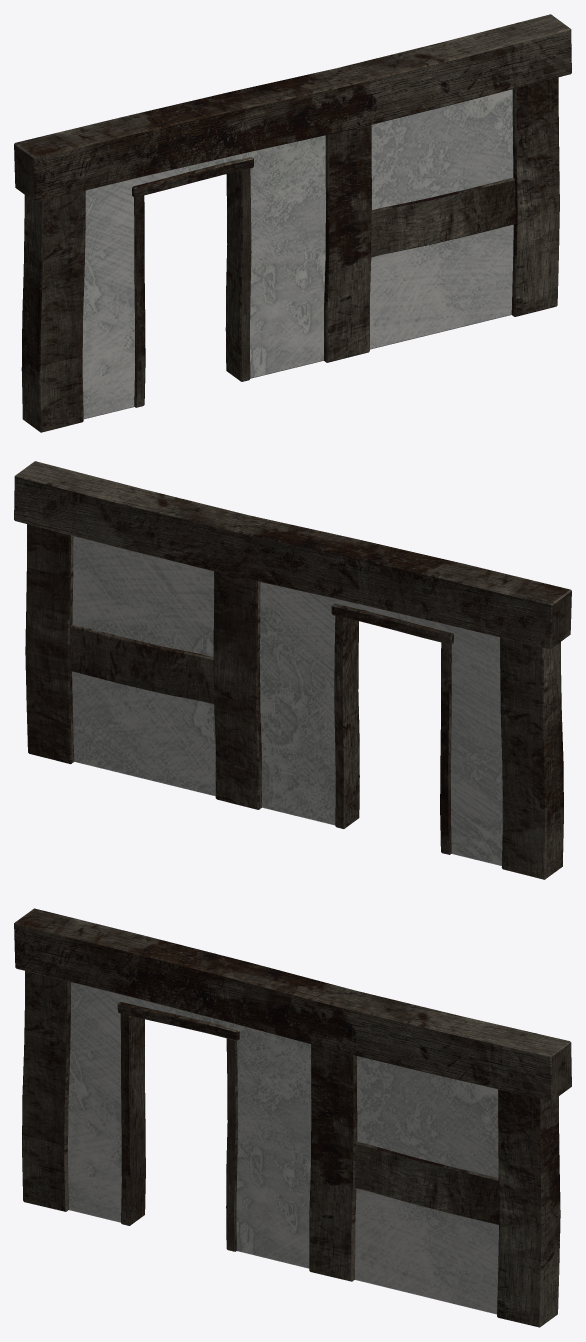
The model's file is TudorDoorWall1.fbx.
3 renders of one model, top to bottom at view 1: azimuth 30°, elevation 25°; view 2: azimuth 150°, elevation 25°; view 3: azimuth 330°, elevation 25°, orthographic.
Parts seen in each view (by area): view 1: White Wall Door 4m 2beam; view 2: White Wall Door 4m 2beam; view 3: White Wall Door 4m 2beam.
Part boxes in pixels (box(x1,y1,x2,y2)): White Wall Door 4m 2beam: box(14, 14, 571, 432); White Wall Door 4m 2beam: box(14, 461, 571, 879); White Wall Door 4m 2beam: box(14, 908, 571, 1327).
Bounding box in the file's own units: 490 × 242 × 32.29.
